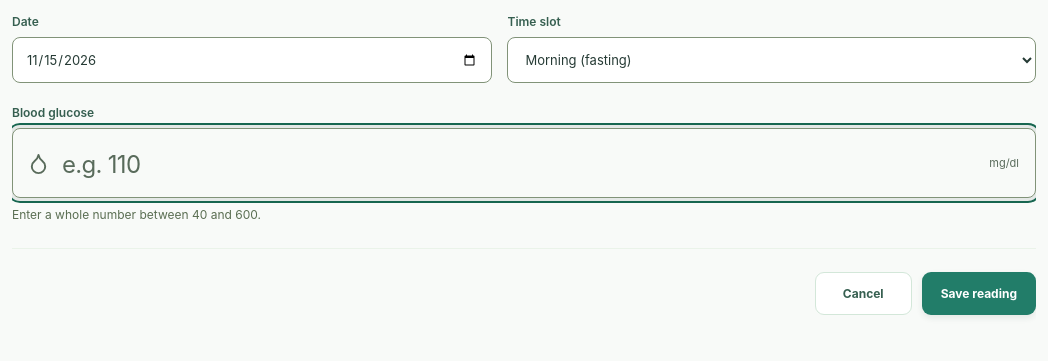
Test: Reading form › rejects invalid whole-number value 39 visibly
Type "39" into the number field labelled "Blood glucose" at [524, 163], box [12,128,1036,198]
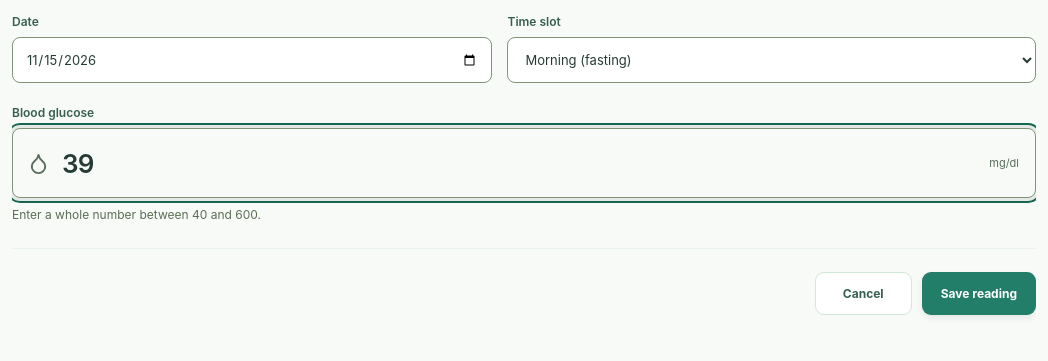
Click the button "Save reading" at [979, 294], box [922,272,1036,315]
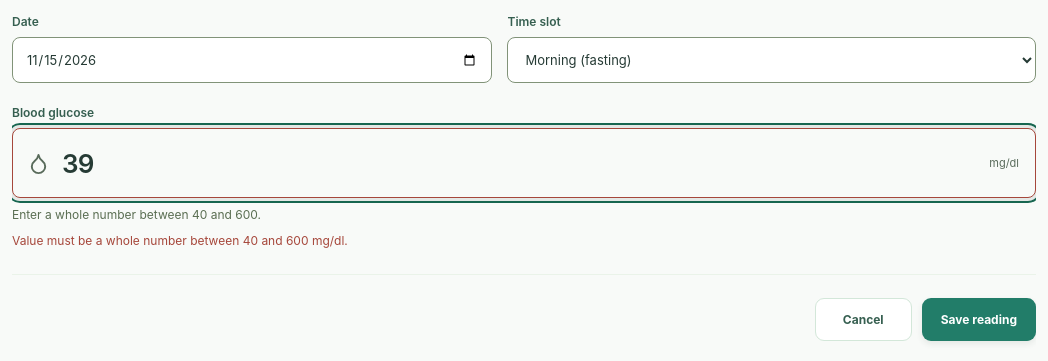
Expected: the text "Value must be a whole number between 40 and 600 mg/dl." is shown, [12,233,348,248]
